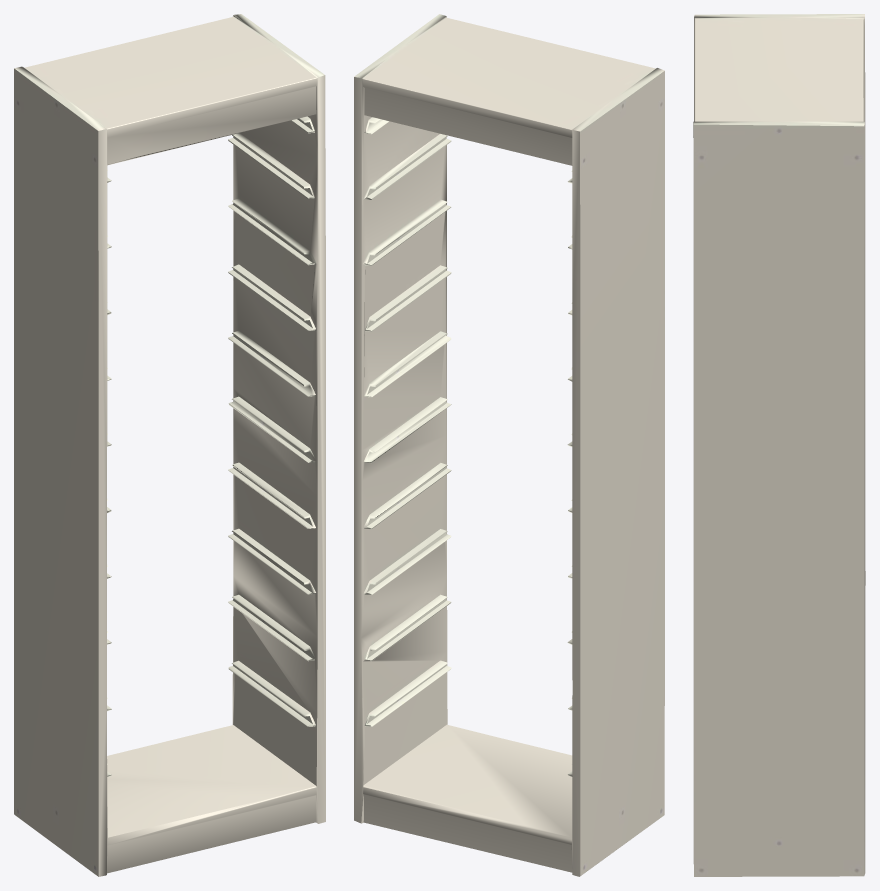
The model's file is trofast_rama_30171123.glb.
The picture shows the model from 3 angles, left to right: view 1: azimuth 30°, elevation 25°; view 2: azimuth 150°, elevation 25°; view 3: azimuth 270°, elevation 25°; orthographic projection.
Parts seen in each view (by area): view 1: trofast_rama_30171123; view 2: trofast_rama_30171123; view 3: trofast_rama_30171123.
Boxes of the visible parts, x1,y1,x2,y2 form: trofast_rama_30171123: (14, 14, 325, 876); trofast_rama_30171123: (354, 14, 664, 876); trofast_rama_30171123: (693, 14, 865, 876).
Size of the model in its own units: 0.4614 by 1.45 by 0.3004.
1 material, 1 textured.
